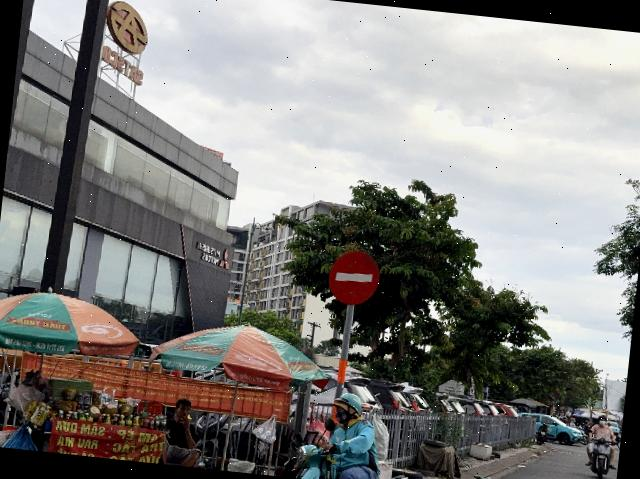cam-di-nguoc-chieu: (326, 249, 382, 307)
